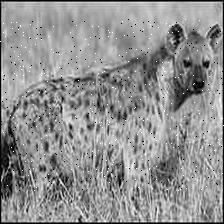hyena: (0, 19, 224, 191)
